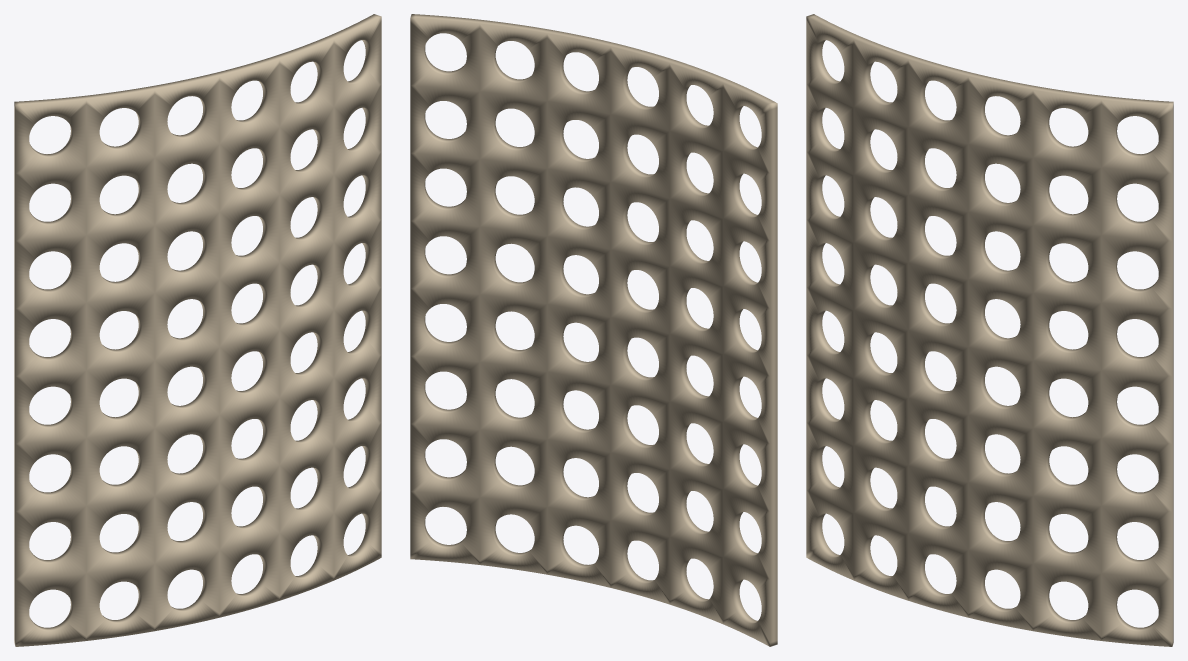
3 renders of one model, left to right at view 1: azimuth 30°, elevation 25°; view 2: azimuth 150°, elevation 25°; view 3: azimuth 330°, elevation 25°, orthographic.
Parts seen in each view (by area): view 1: VEIL | continuous perforated shell; view 2: VEIL | continuous perforated shell; view 3: VEIL | continuous perforated shell.
Boxes of the visible parts, bbox=[...] form: VEIL | continuous perforated shell: bbox=[14, 14, 381, 646]; VEIL | continuous perforated shell: bbox=[410, 14, 777, 646]; VEIL | continuous perforated shell: bbox=[806, 14, 1173, 646].
Bounding box in the file's own units: 0.3539 × 0.5 × 0.0426.
